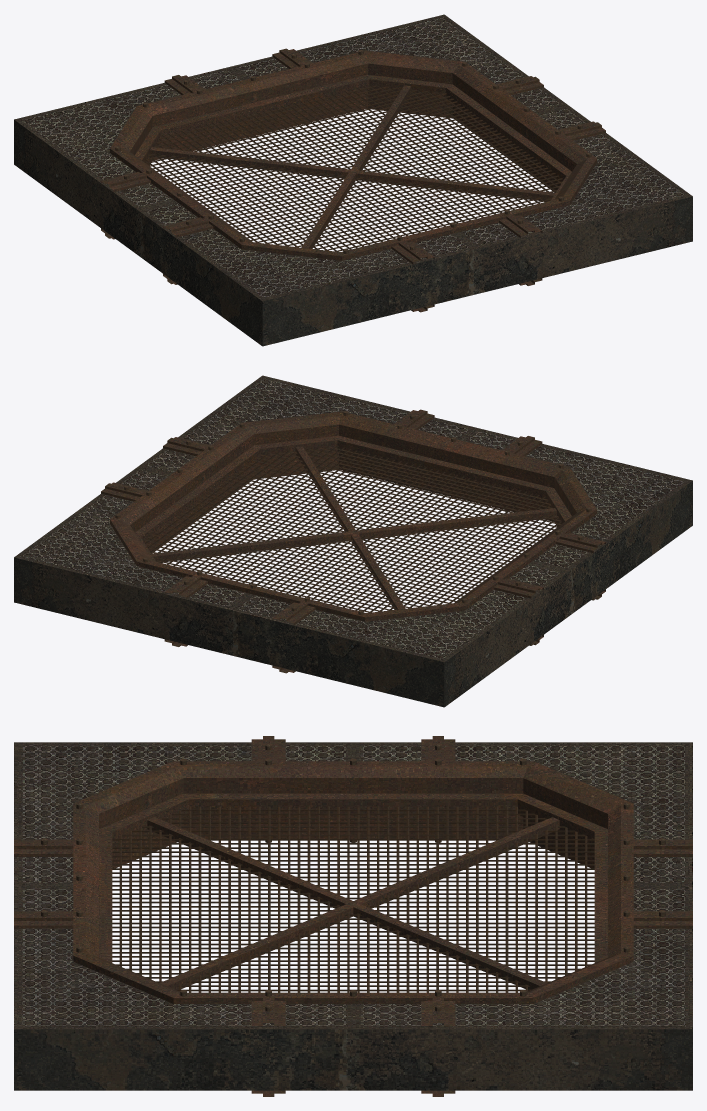
The model's file is floor_ceiling_rtx_2.glb.
The picture shows the model from 3 angles, top to bottom: view 1: azimuth 30°, elevation 25°; view 2: azimuth 150°, elevation 25°; view 3: azimuth 270°, elevation 25°; orthographic projection. The views are drawn at different scales.
Visible parts, largest first — view 1: floor_ceiling_rtx_2, floor_ceiling_rtx_2_panel_child; view 2: floor_ceiling_rtx_2, floor_ceiling_rtx_2_panel_child; view 3: floor_ceiling_rtx_2, floor_ceiling_rtx_2_panel_child.
Part boxes in pixels (x1,y1,x2,y2): floor_ceiling_rtx_2: [14, 14, 692, 346]; floor_ceiling_rtx_2_panel_child: [135, 74, 571, 251]; floor_ceiling_rtx_2: [14, 375, 692, 707]; floor_ceiling_rtx_2_panel_child: [135, 435, 571, 612]; floor_ceiling_rtx_2: [14, 736, 692, 1096]; floor_ceiling_rtx_2_panel_child: [99, 793, 607, 992].
Size of the model in its own units: 4 by 0.5303 by 4.
Materials: 4 (4 with a texture image).
